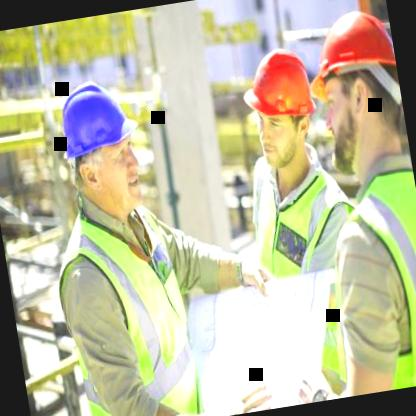helmet: (297, 0, 412, 180), (42, 58, 158, 232), (231, 33, 330, 182)
